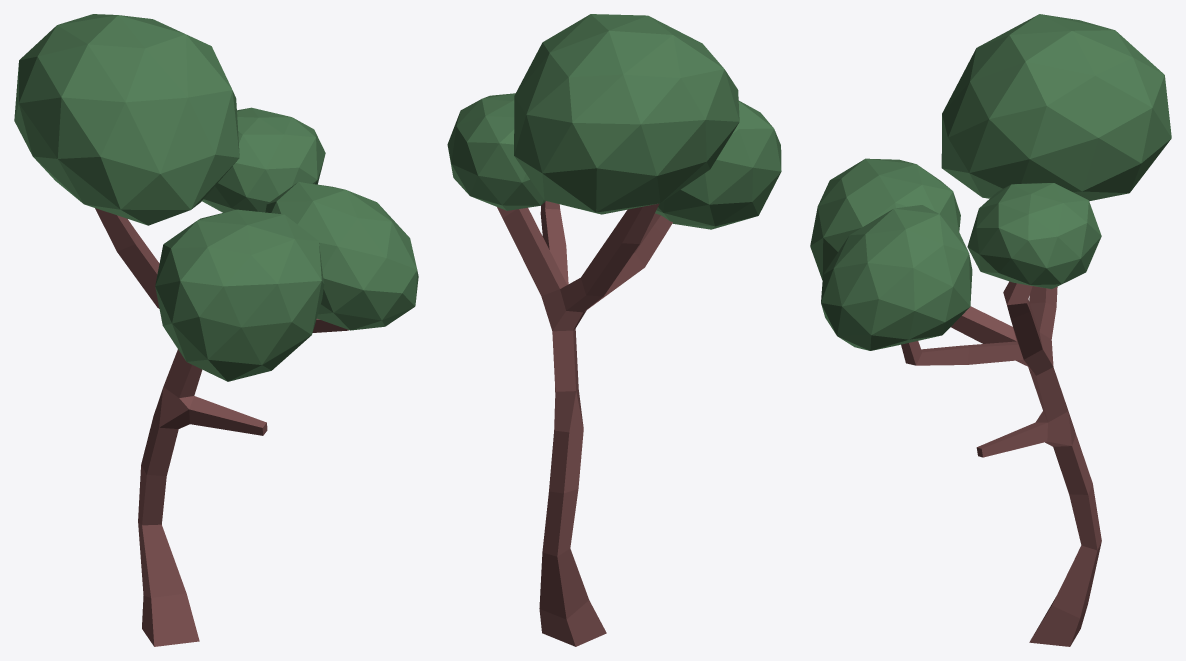
The model's file is PlainsTree(2).fbx.
3 renders of one model, left to right at view 1: azimuth 30°, elevation 25°; view 2: azimuth 150°, elevation 25°; view 3: azimuth 270°, elevation 25°, orthographic. The views are drawn at different scales.
Visible parts, largest first — view 1: PlainsTree(2); view 2: PlainsTree(2); view 3: PlainsTree(2).
Part boxes in pixels (x1,y1,x2,y2): PlainsTree(2): (14,14,418,646); PlainsTree(2): (447,14,781,646); PlainsTree(2): (810,14,1171,646).
Bounding box in the file's own units: 4.11 × 8.4 × 4.71.
